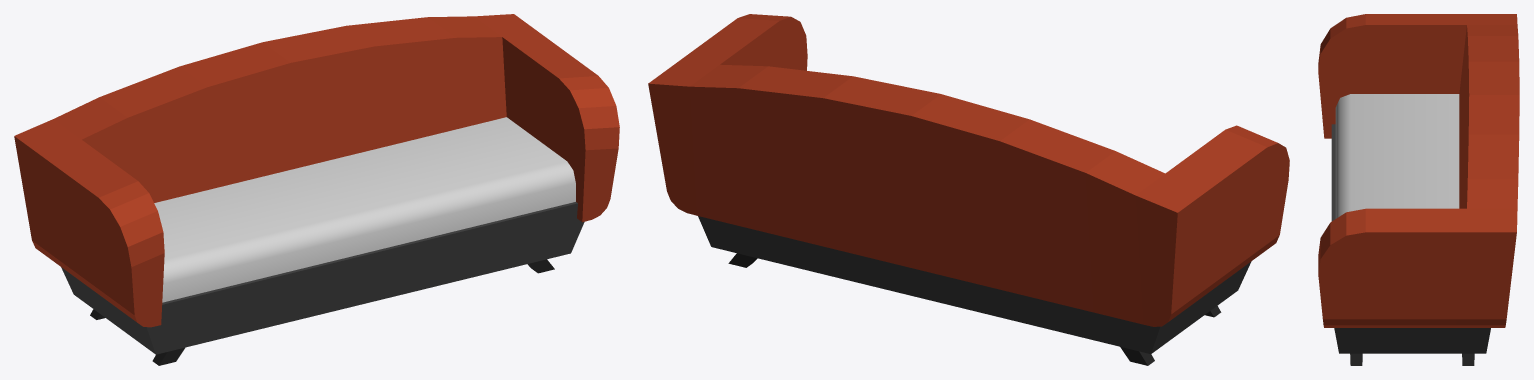
Rendered from Sofa_2.fbx.
3 views of the same model, side by side, from view 1: azimuth 30°, elevation 25°; view 2: azimuth 150°, elevation 25°; view 3: azimuth 270°, elevation 25° (orthographic). The views are drawn at different scales.
Parts seen in each view (by area): view 1: Sofa_2; view 2: Sofa_2; view 3: Sofa_2.
Boxes of the visible parts, x1=… form: Sofa_2: x1=14, y1=14, x2=619, y2=365; Sofa_2: x1=648, y1=14, x2=1289, y2=365; Sofa_2: x1=1318, y1=14, x2=1519, y2=365.
Bounding box in the file's own units: 240 × 94.43 × 93.39.
